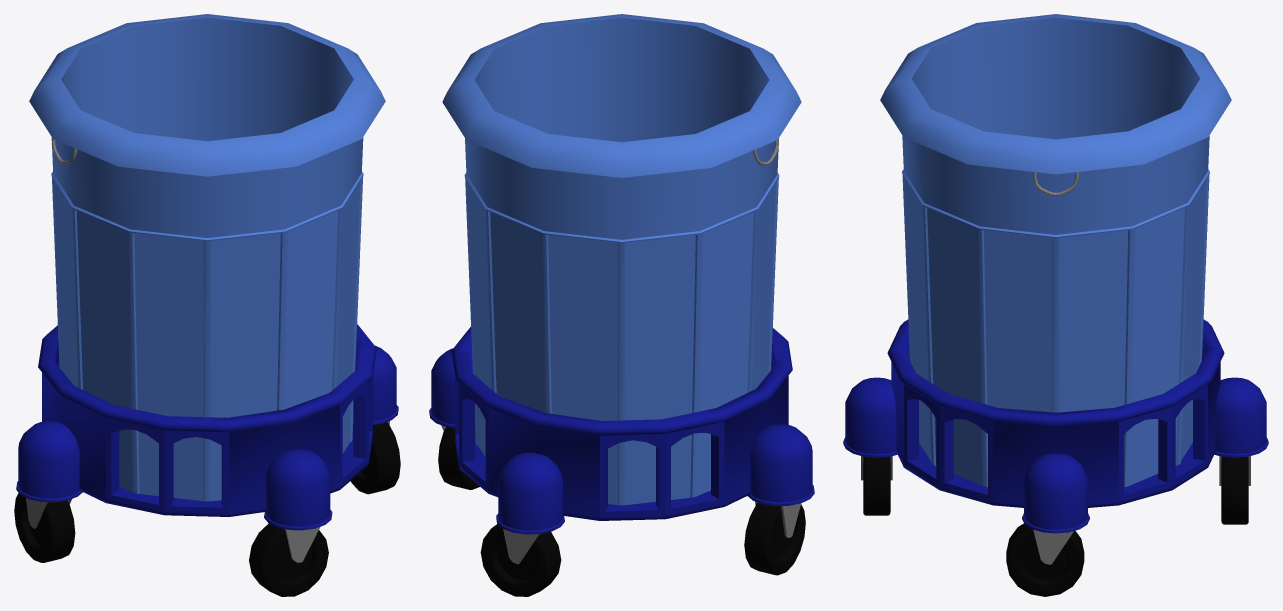
Rendered from TrashCan2.fbx.
The picture shows the model from 3 angles, left to right: view 1: azimuth 30°, elevation 25°; view 2: azimuth 150°, elevation 25°; view 3: azimuth 270°, elevation 25°; orthographic projection. The views are drawn at different scales.
Parts seen in each view (by area): view 1: Object011; view 2: Object011; view 3: Object011.
Part boxes in pixels (<box>): Object011: <box>14,14,400,596</box>; Object011: <box>429,14,814,596</box>; Object011: <box>843,14,1268,596</box>.
Bounding box in the file's own units: 109 × 124 × 109.
